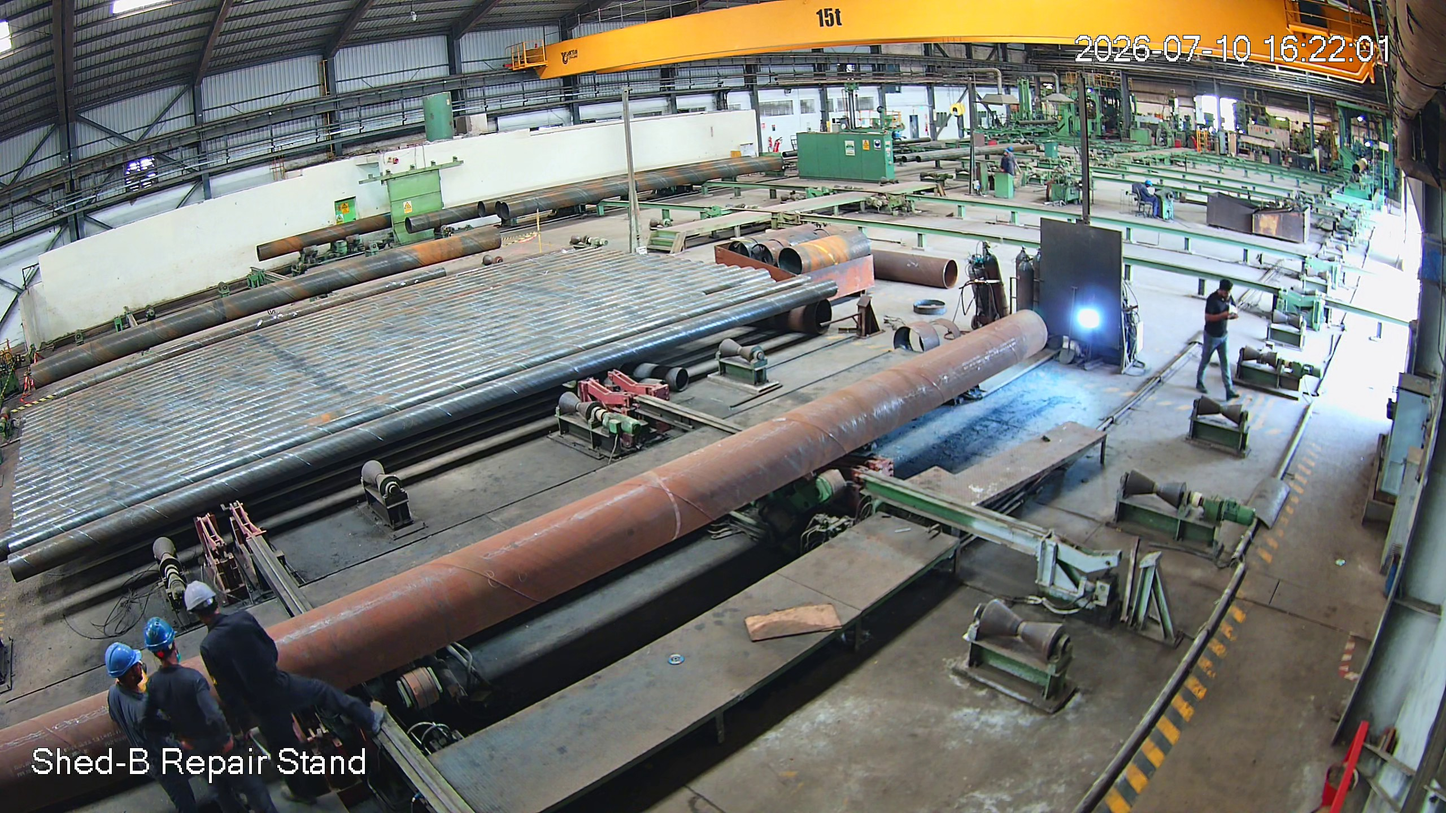Helmet: (183, 574, 258, 633), (94, 642, 152, 699), (138, 608, 190, 670), (1144, 179, 1156, 191)
Person: (188, 565, 394, 768), (145, 611, 250, 799), (98, 623, 185, 813), (1202, 276, 1246, 403), (1141, 180, 1162, 220)
